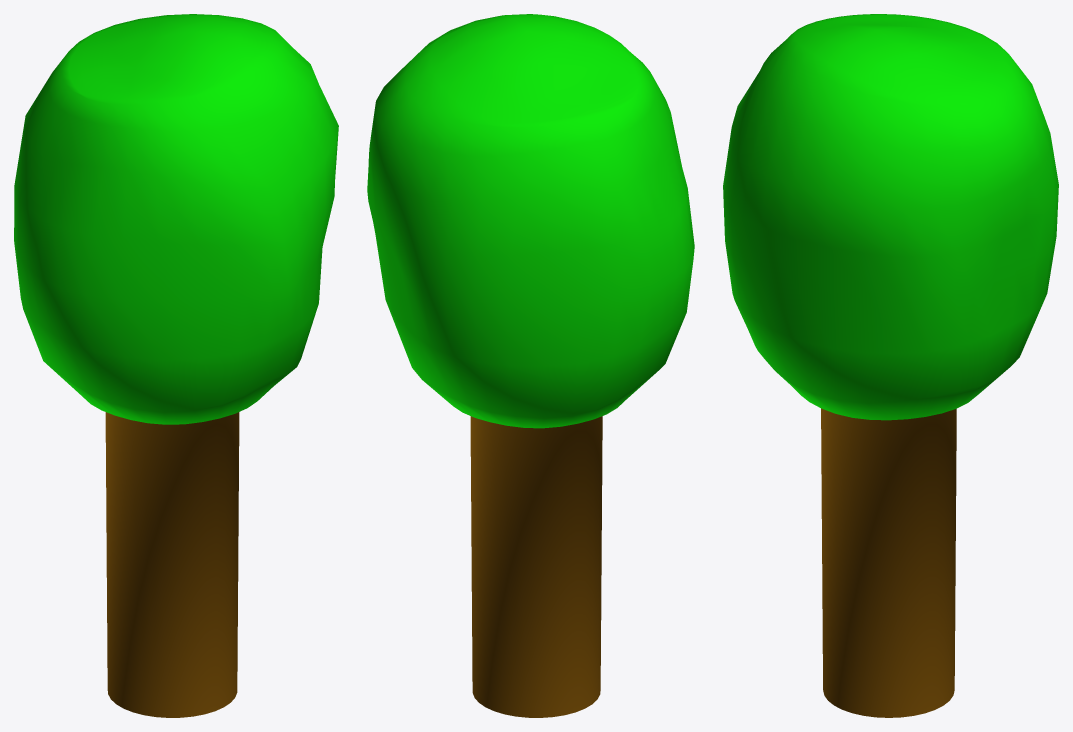
File: Tree.glb
3 views of the same model, side by side, from view 1: azimuth 30°, elevation 25°; view 2: azimuth 150°, elevation 25°; view 3: azimuth 270°, elevation 25° (orthographic). The views are drawn at different scales.
Parts seen in each view (by area): view 1: Circle.001; view 2: Circle.001; view 3: Circle.001.
Boxes of the visible parts, x1,y1,x2,y2 form: Circle.001: (14,14,338,717); Circle.001: (367,14,694,717); Circle.001: (723,14,1058,717).
Bounding box in the file's own units: 2.65 × 5.79 × 2.64.
